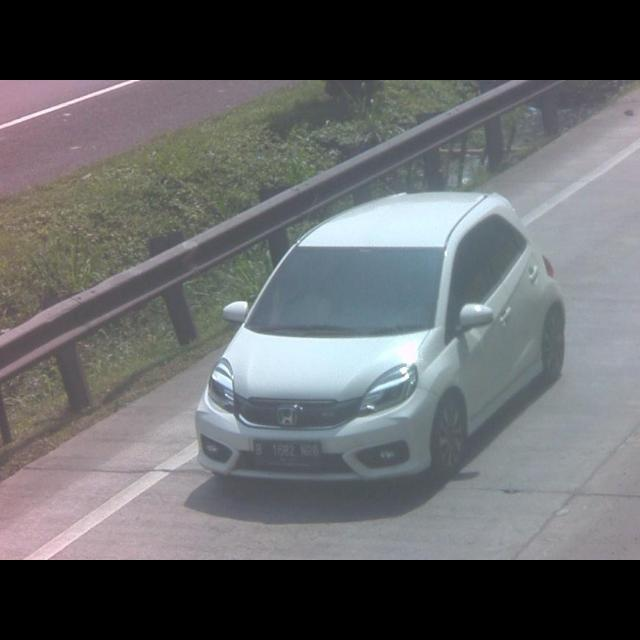plate: (251, 437, 323, 465)
